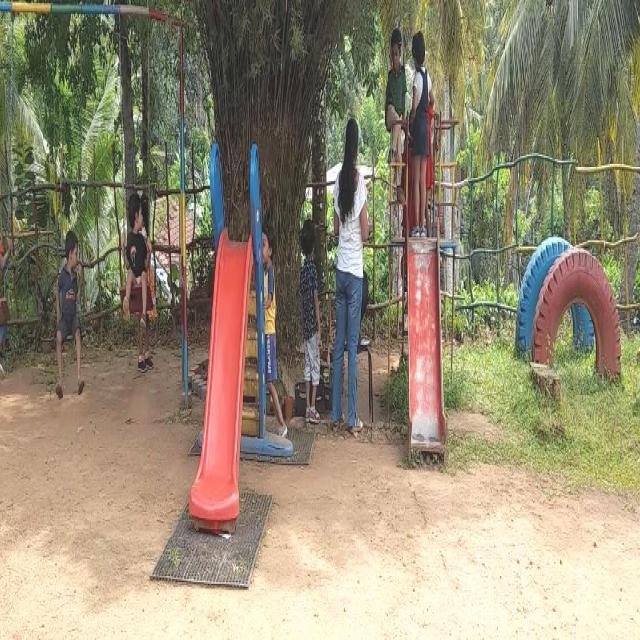adult: (330, 119, 371, 441)
child: (52, 223, 84, 397), (410, 22, 433, 240), (303, 201, 322, 420), (126, 165, 151, 314), (0, 175, 10, 404)
